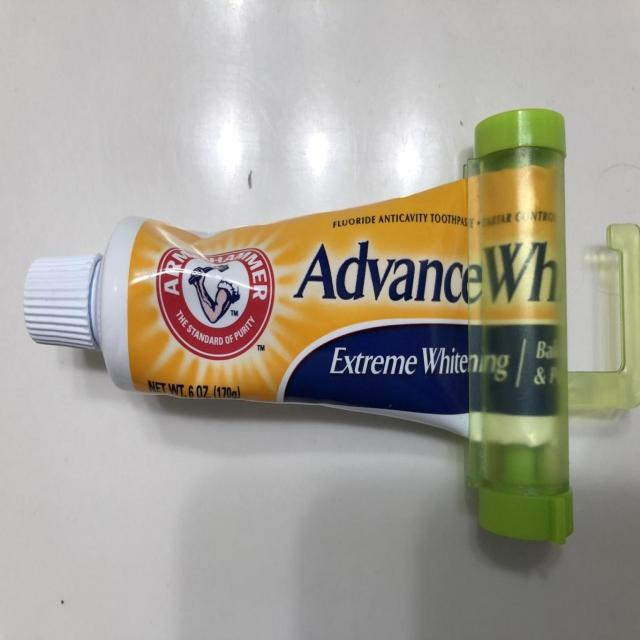Toothpaste: (12, 170, 582, 440)
